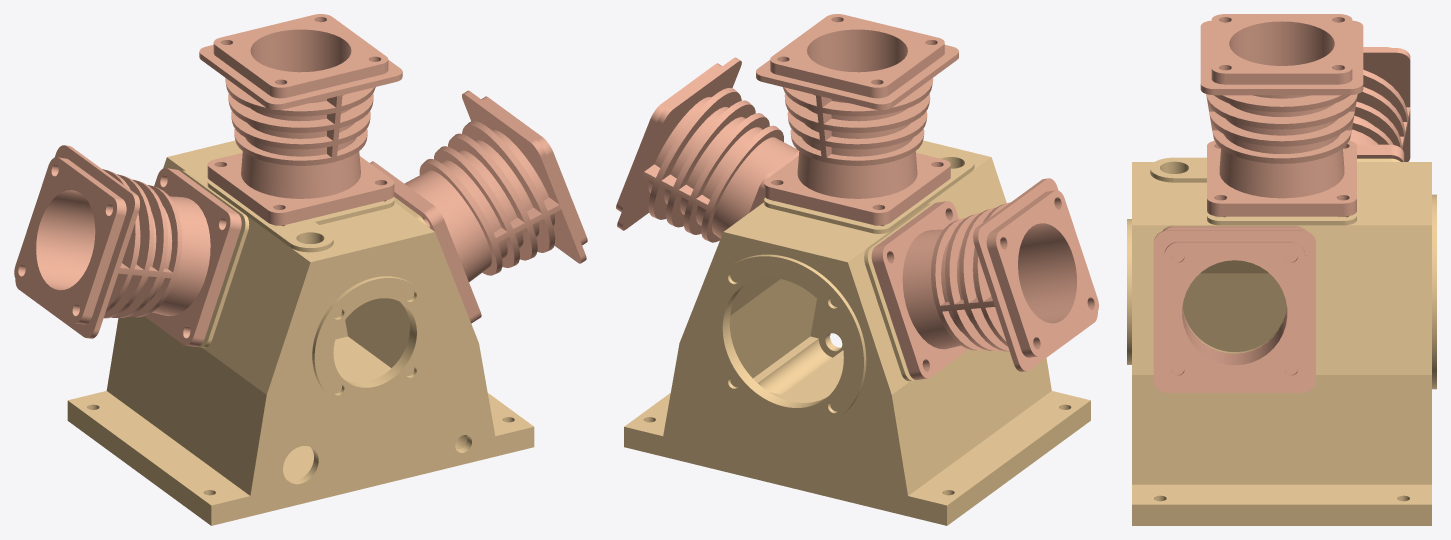
3 renders of one model, left to right at view 1: azimuth 30°, elevation 25°; view 2: azimuth 150°, elevation 25°; view 3: azimuth 270°, elevation 25°, orthographic. The views are drawn at different scales.
Parts seen in each view (by area): view 1: CAJA, CABEZAL1, CABEZAL2, CABEZAL3; view 2: CAJA, CABEZAL1, CABEZAL2, CABEZAL3; view 3: CAJA, CABEZAL2, CABEZAL3, CABEZAL1.
Part boxes in pixels (bbox=[...]): CAJA: bbox=[67, 140, 534, 525]; CABEZAL1: bbox=[14, 145, 241, 346]; CABEZAL2: bbox=[199, 14, 402, 225]; CABEZAL3: bbox=[370, 90, 587, 323]; CAJA: bbox=[624, 140, 1090, 525]; CABEZAL1: bbox=[871, 178, 1098, 379]; CABEZAL2: bbox=[756, 14, 958, 225]; CABEZAL3: bbox=[616, 57, 799, 242]; CAJA: bbox=[1127, 157, 1436, 525]; CABEZAL2: bbox=[1200, 14, 1363, 216]; CABEZAL3: bbox=[1153, 226, 1315, 392]; CABEZAL1: bbox=[1349, 47, 1410, 161].
Bounding box in the file's own units: 0.3466 × 0.272 × 0.191.
